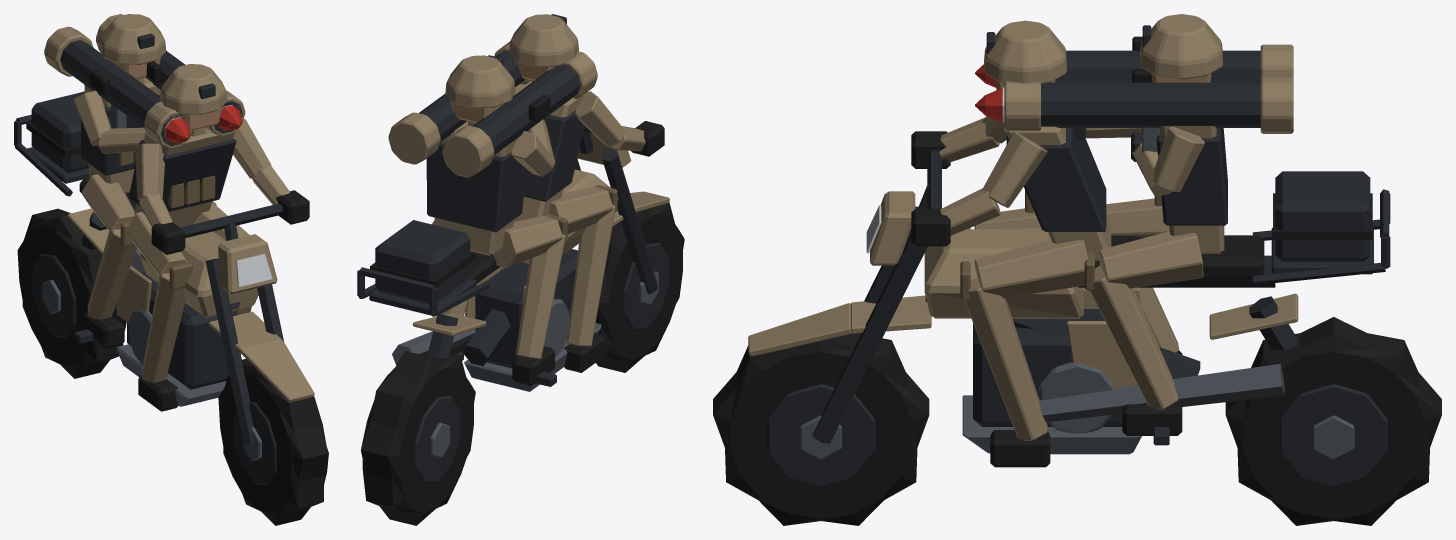
File: moto-recon-n3.glb
3 renders of one model, left to right at view 1: azimuth 30°, elevation 25°; view 2: azimuth 150°, elevation 25°; view 3: azimuth 270°, elevation 25°, orthographic. The views are drawn at different scales.
Visible parts, largest first — view 1: casco, wheel_F, wheel_B, gun_pitch, turret_yaw, rocket_01, rocket_02; view 2: casco, wheel_B, gun_pitch, turret_yaw, wheel_F; view 3: casco, wheel_B, wheel_F, gun_pitch, turret_yaw.
Part boxes in pixels (<box>): casco: <box>14,64,314,445</box>; wheel_F: <box>218,359,328,525</box>; wheel_B: <box>17,208,126,378</box>; gun_pitch: <box>44,14,245,153</box>; turret_yaw: <box>81,14,166,193</box>; rocket_01: <box>165,117,189,142</box>; rocket_02: <box>216,104,241,130</box>; casco: <box>357,14,669,391</box>; wheel_B: <box>361,350,475,525</box>; gun_pitch: <box>388,41,597,177</box>; turret_yaw: <box>426,55,525,255</box>; wheel_F: <box>595,202,684,372</box>; casco: <box>748,20,1390,467</box>; wheel_B: <box>1225,317,1441,525</box>; wheel_F: <box>713,333,929,525</box>; gun_pitch: <box>1004,36,1293,196</box>; turret_yaw: <box>1140,14,1227,253</box>.
Bounding box in the file's own units: 0.294 × 0.745 × 0.9954.
